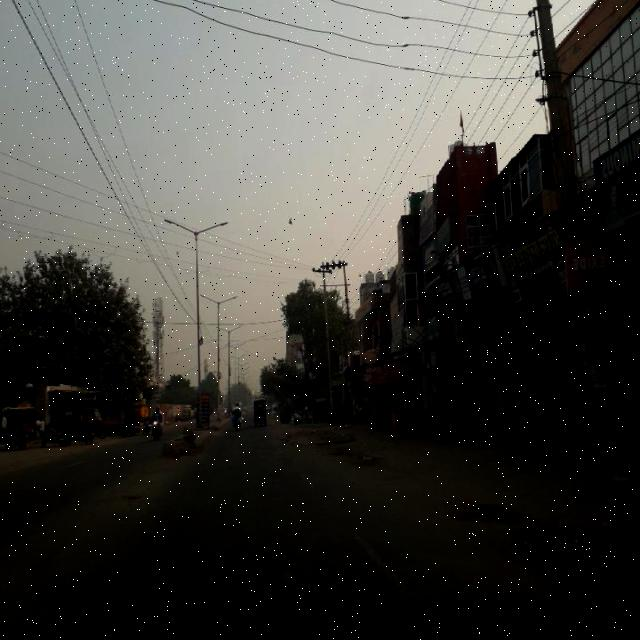D40: (273, 560, 323, 590)
D44: (355, 534, 422, 610), (293, 460, 322, 500)
